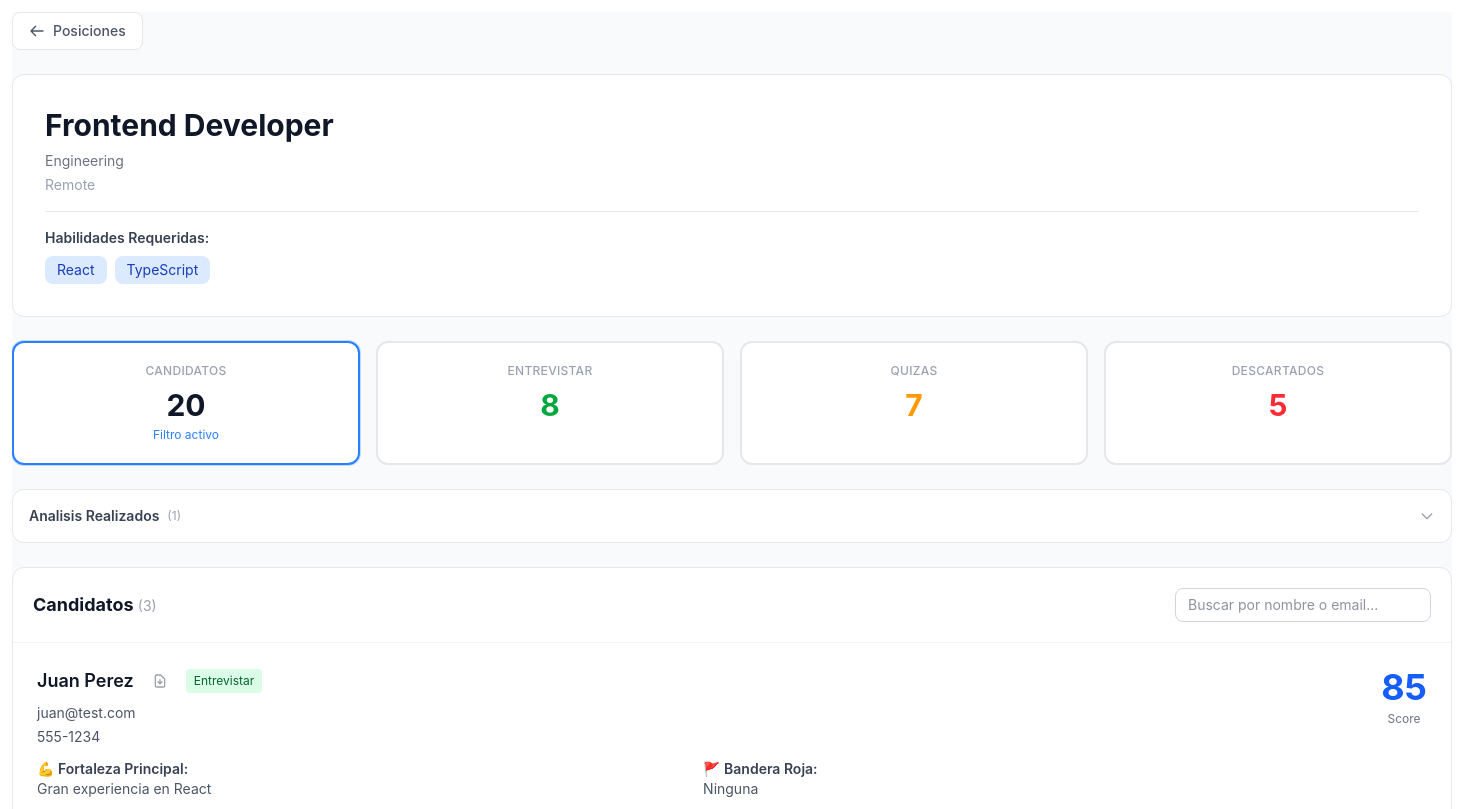
PositionAnalytics › shows active filter indicator when category selected
Expected: the heading "Juan Perez" is shown, [37,667,134,695]
// Click the first "Quizas" text (stat card)
Click the text "Quizas" at (914, 370), box [890,363,938,378]
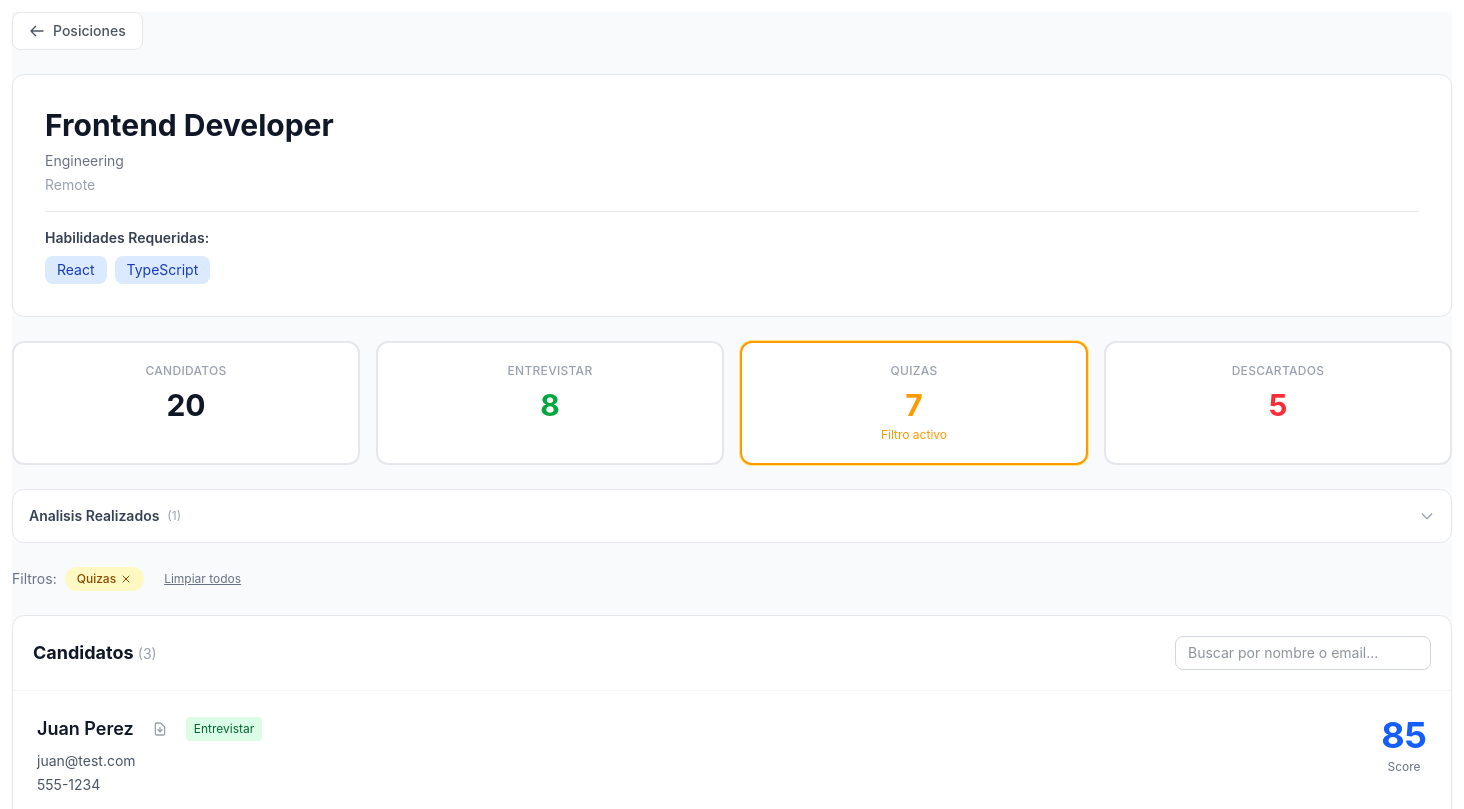
Expected: the text "Filtros:" is shown, [12,569,57,589]
